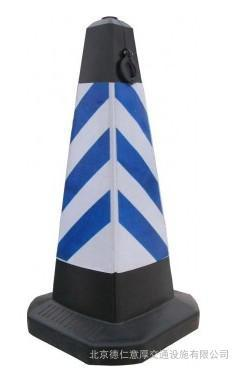cone_barrel: (39, 18, 187, 343)
